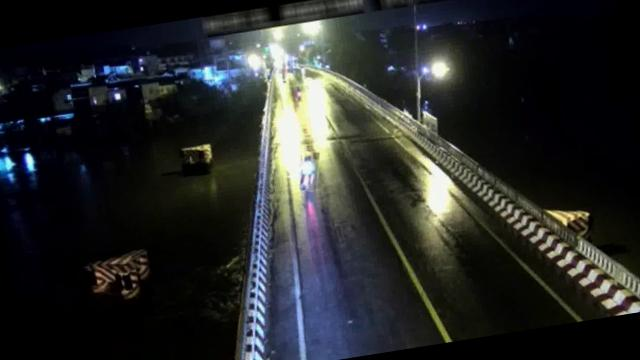Bike: (296, 150, 323, 193)
